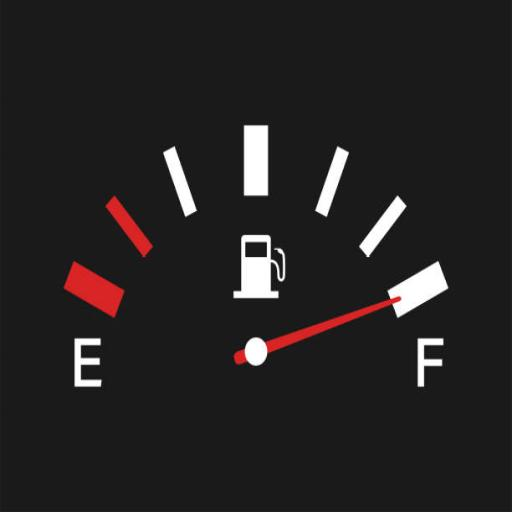empty: (69, 331, 105, 392)
fuel_icon: (230, 223, 288, 302)
full: (412, 333, 448, 392)
guage_area: (54, 79, 480, 425)
needle_center: (225, 320, 286, 383)
needle_tip: (378, 292, 407, 310)
